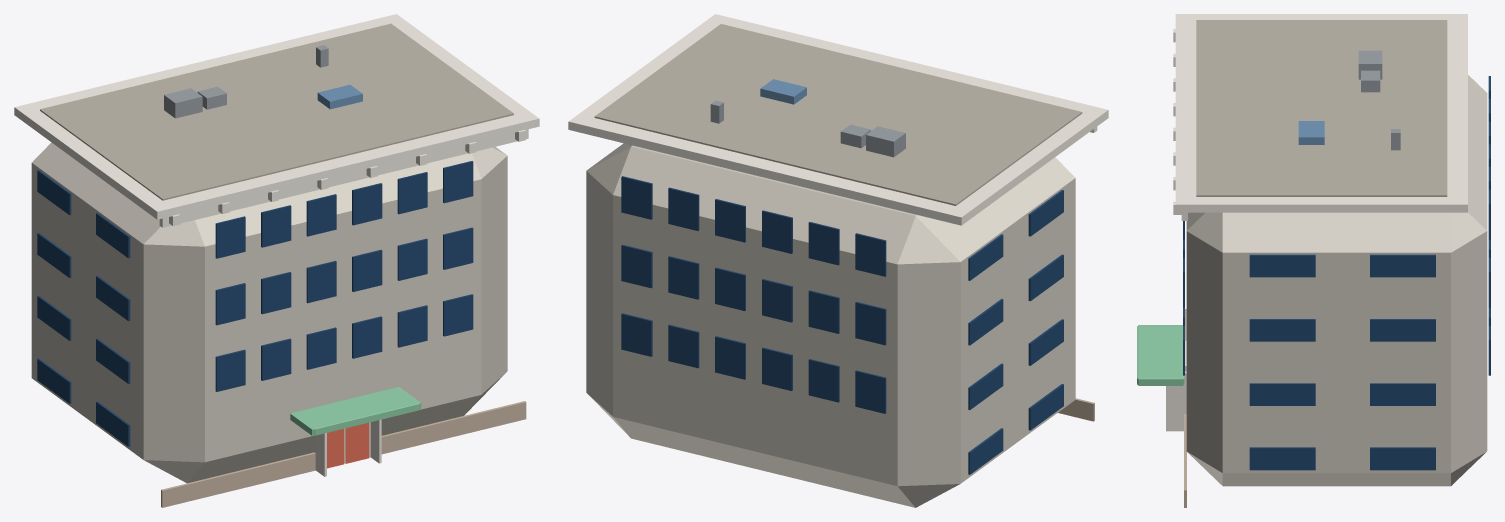
The model's file is senior_home.glb.
3 renders of one model, left to right at view 1: azimuth 30°, elevation 25°; view 2: azimuth 150°, elevation 25°; view 3: azimuth 270°, elevation 25°, orthographic. The views are drawn at different scales.
Visible parts, largest first — view 1: walls, roofslab, corn, bsmt, bigcanopy, frieze, win.011, win.013, win.008, win.012, win.014, win.009 (+24 smaller); view 2: walls, roofslab, corn, win.022, win.028, win.029, win.024, win.030, win.031, win.035, win.019, win.023 (+19 smaller); view 3: walls, roofslab, corn, bigcanopy, sb.001, sb.013, sb.003, sb.015, sb.005, sb.009, sb.007, sb.011 (+4 smaller).
Boxes of the visible parts, left/top/right/bottom form: walls: left=31, top=142, right=507, bottom=483; roofslab: left=40, top=23, right=513, bottom=200; corn: left=14, top=14, right=539, bottom=219; bsmt: left=161, top=401, right=526, bottom=507; bigcanopy: left=290, top=387, right=421, bottom=435; frieze: left=159, top=129, right=528, bottom=227; win.011: left=443, top=227, right=473, bottom=269; win.013: left=261, top=205, right=291, bottom=247; win.008: left=306, top=260, right=336, bottom=303; win.012: left=215, top=216, right=245, bottom=258; win.014: left=306, top=194, right=336, bottom=236; win.009: left=352, top=250, right=382, bottom=291; walls: left=586, top=143, right=1075, bottom=507; roofslab: left=594, top=24, right=1082, bottom=205; corn: left=568, top=14, right=1108, bottom=225; win.022: left=668, top=324, right=699, bottom=368; win.028: left=668, top=256, right=699, bottom=299; win.029: left=621, top=244, right=652, bottom=288; win.024: left=855, top=301, right=886, bottom=345; win.030: left=855, top=233, right=886, bottom=276; win.031: left=808, top=222, right=839, bottom=265; win.035: left=621, top=176, right=652, bottom=219; win.019: left=808, top=359, right=839, bottom=402; win.023: left=621, top=313, right=652, bottom=356; walls: left=1186, top=75, right=1487, bottom=486; roofslab: left=1196, top=20, right=1447, bottom=196; corn: left=1175, top=14, right=1467, bottom=212; bigcanopy: left=1137, top=325, right=1184, bottom=385; sb.001: left=1249, top=447, right=1315, bottom=470; sb.013: left=1249, top=254, right=1315, bottom=277; sb.003: left=1370, top=447, right=1435, bottom=470; sb.015: left=1370, top=254, right=1435, bottom=277; sb.005: left=1249, top=383, right=1315, bottom=405; sb.009: left=1249, top=319, right=1315, bottom=341; sb.007: left=1370, top=383, right=1435, bottom=405; sb.011: left=1370, top=319, right=1435, bottom=341.
Bounding box in the file's own units: 21 × 16.8 × 16.47.
